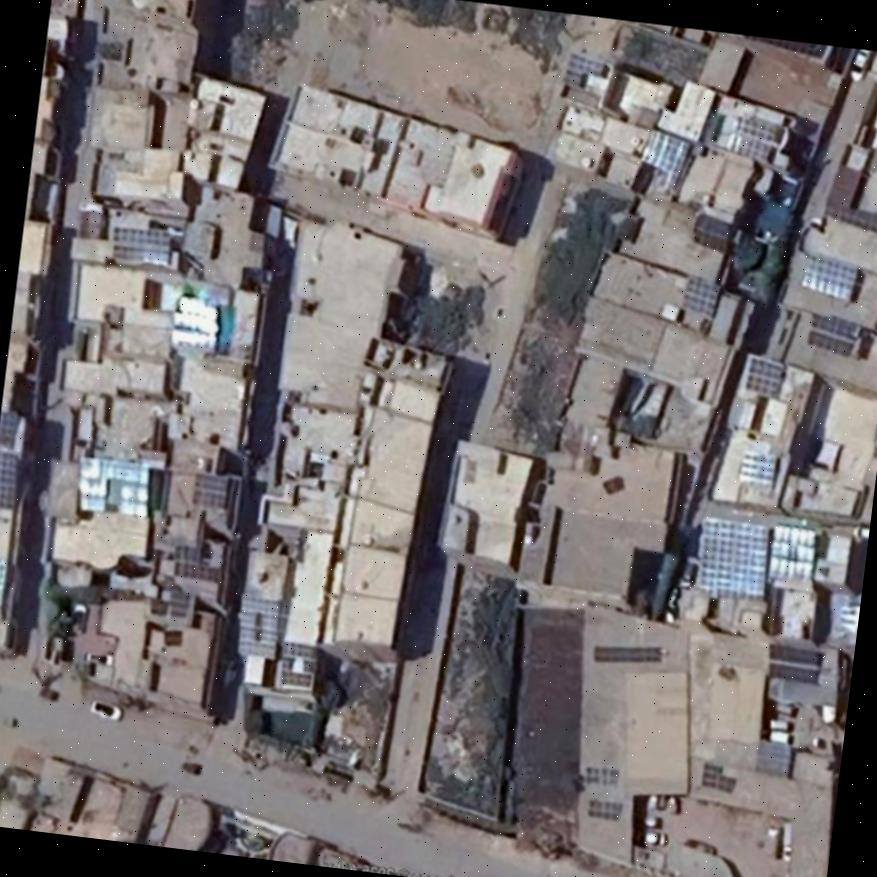Solarpanel: (697, 518, 769, 594), (79, 458, 146, 516), (802, 254, 857, 300), (169, 296, 216, 349), (726, 116, 780, 159), (639, 127, 688, 173), (113, 225, 170, 263), (809, 310, 858, 352), (238, 601, 275, 654), (769, 645, 819, 683), (680, 275, 720, 313), (747, 360, 785, 396), (740, 452, 777, 487), (753, 742, 789, 774), (191, 472, 224, 506), (593, 646, 659, 660), (700, 763, 734, 790), (0, 450, 14, 506), (0, 409, 16, 450), (586, 766, 617, 784), (590, 801, 620, 817), (603, 475, 624, 493)
